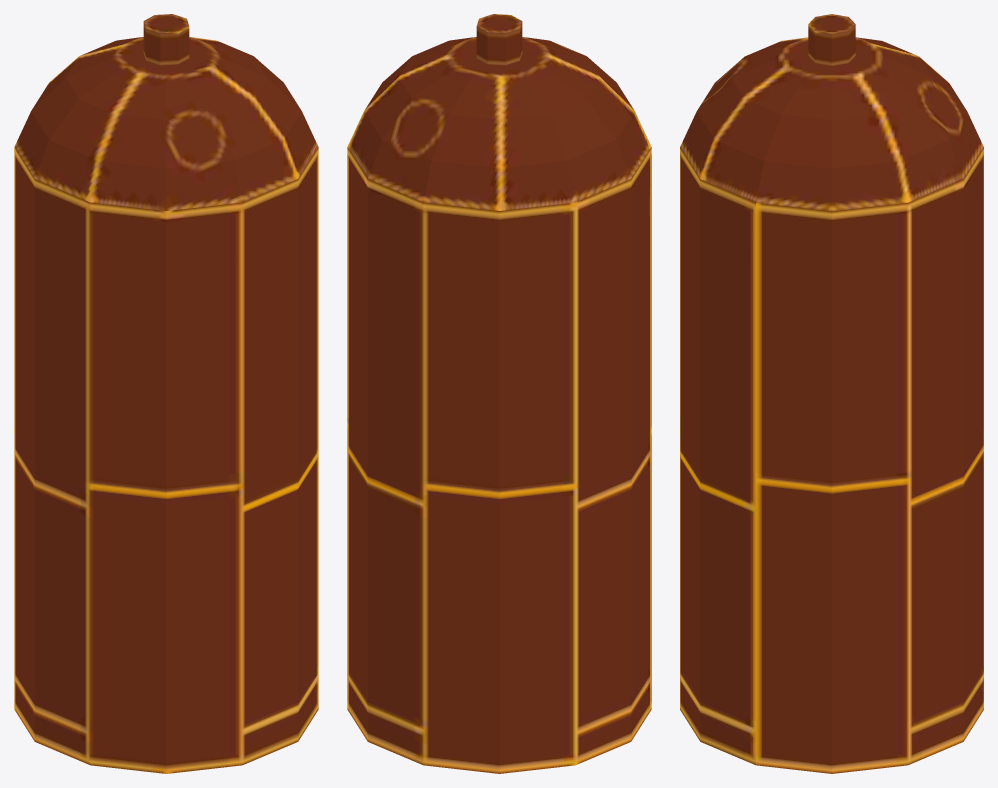
The model's file is SiloOfTruth.glb.
The picture shows the model from 3 angles, left to right: view 1: azimuth 30°, elevation 25°; view 2: azimuth 150°, elevation 25°; view 3: azimuth 270°, elevation 25°; orthographic projection.
Visible parts, largest first — view 1: SiloOfTruth; view 2: SiloOfTruth; view 3: SiloOfTruth.
Part boxes in pixels (box(x1,y1,x2,y2)): SiloOfTruth: box(14, 14, 318, 773); SiloOfTruth: box(347, 14, 651, 773); SiloOfTruth: box(680, 14, 983, 773).
Bounding box in the file's own units: 0.1216 × 0.3028 × 0.1216.
Materials: 1 (1 with a texture image).
